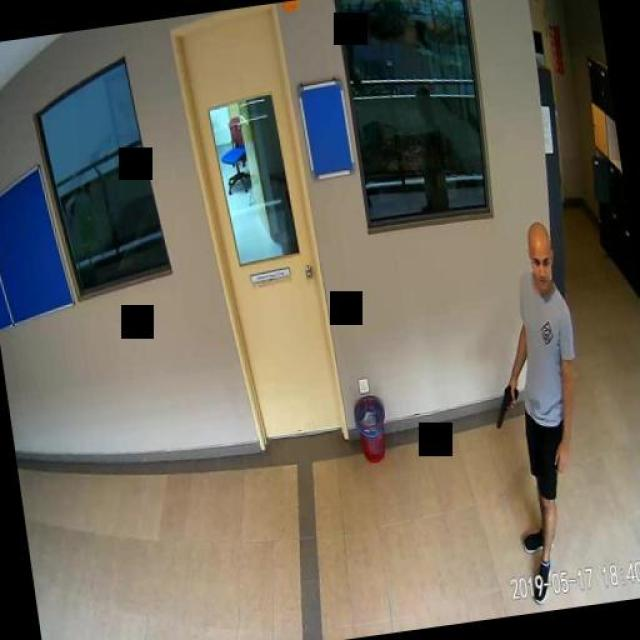gun: (490, 383, 520, 428)
